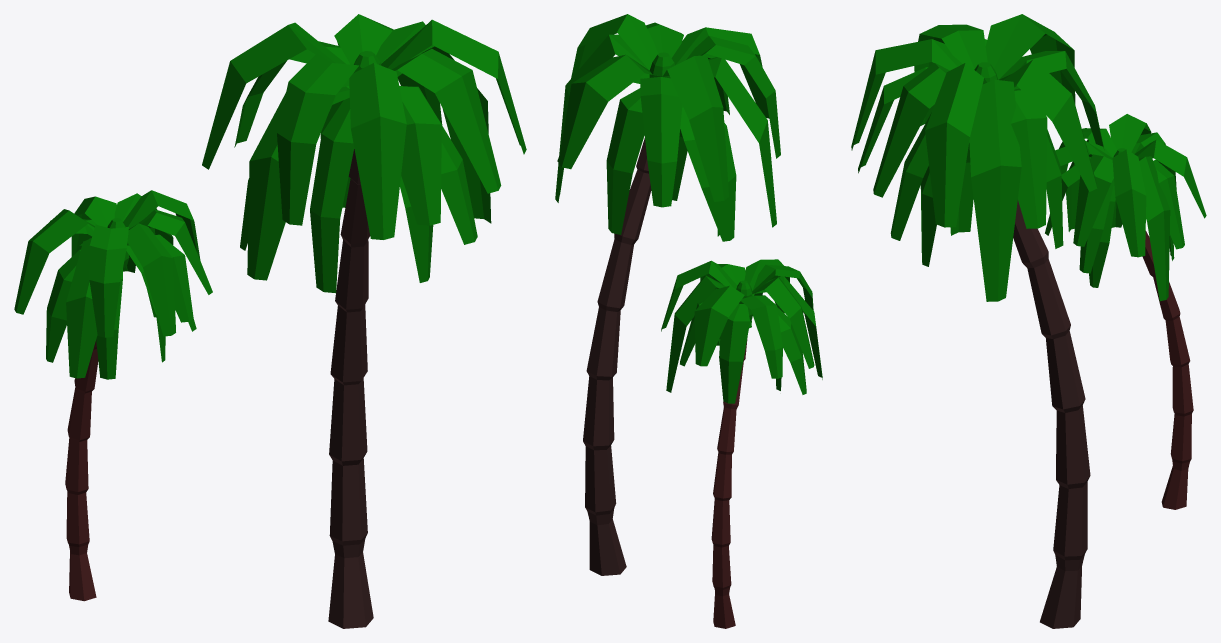
File: Desert_Trees.fbx
3 renders of one model, left to right at view 1: azimuth 30°, elevation 25°; view 2: azimuth 150°, elevation 25°; view 3: azimuth 270°, elevation 25°, orthographic. The views are drawn at different scales.
Visible parts, largest first — view 1: polySurface32, polySurface33, polySurface31, polySurface34; view 2: polySurface32, polySurface33, polySurface31, polySurface34; view 3: polySurface32, polySurface33, polySurface31, polySurface34.
Part boxes in pixels (bbox=[...]): polySurface32: bbox=[202, 14, 526, 293]; polySurface33: bbox=[14, 190, 212, 379]; polySurface31: bbox=[328, 149, 373, 628]; polySurface34: bbox=[65, 340, 98, 601]; polySurface32: bbox=[555, 14, 780, 241]; polySurface33: bbox=[661, 259, 822, 403]; polySurface31: bbox=[583, 138, 651, 575]; polySurface34: bbox=[711, 337, 747, 628]; polySurface32: bbox=[851, 14, 1104, 301]; polySurface33: bbox=[1045, 114, 1206, 301]; polySurface31: bbox=[1013, 200, 1090, 628]; polySurface34: bbox=[1142, 231, 1193, 509].
Bounding box in the file's own units: 423 × 630 × 356.
